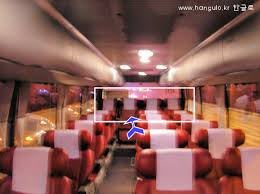seat: (140, 150, 209, 191)
